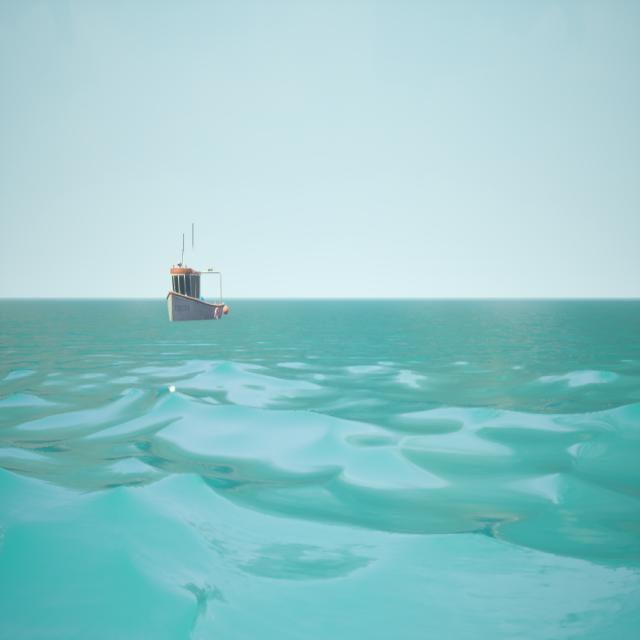ship: (164, 217, 228, 325)
